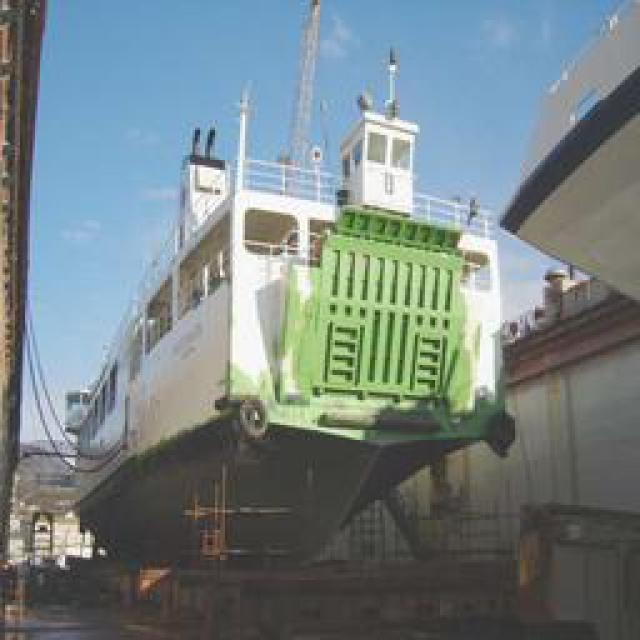Ship: (78, 47, 523, 565)
